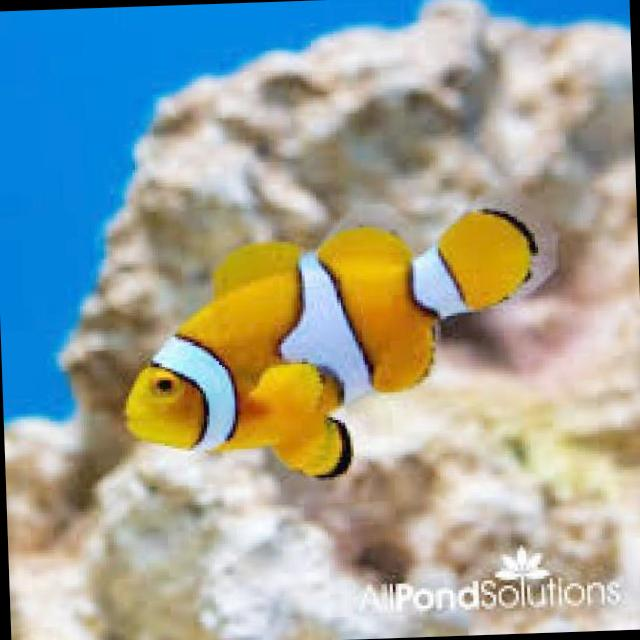ButterflyFish: (121, 202, 558, 489)
